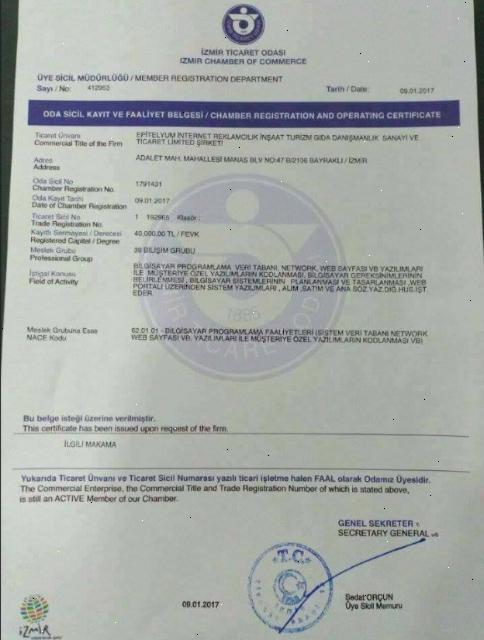stamp: (249, 544, 334, 634)
